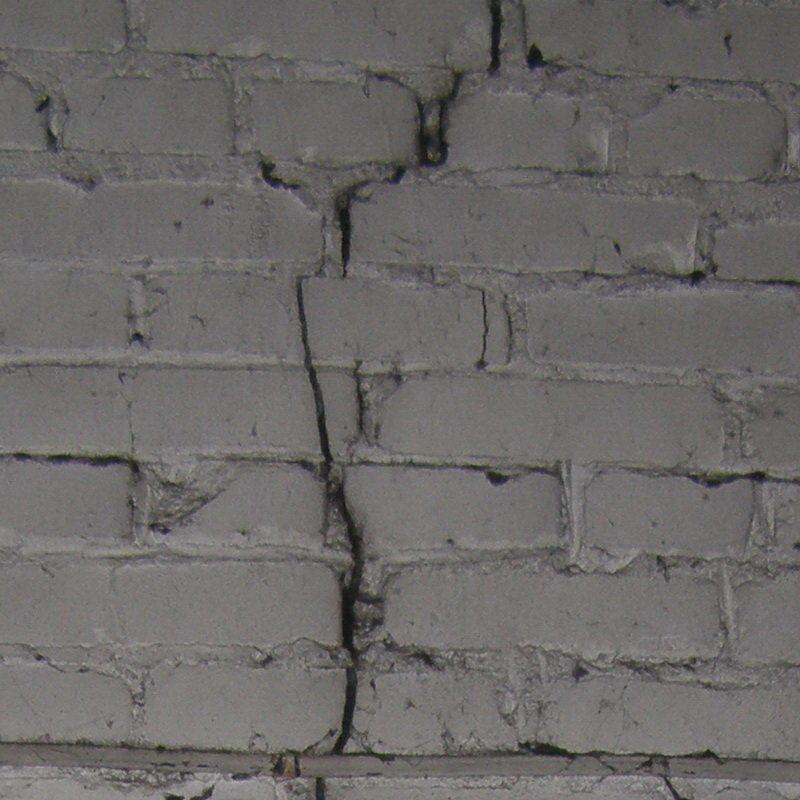pothole: (296, 276, 365, 758), (419, 72, 464, 167), (335, 189, 354, 275), (488, 0, 502, 70), (416, 97, 426, 160)
